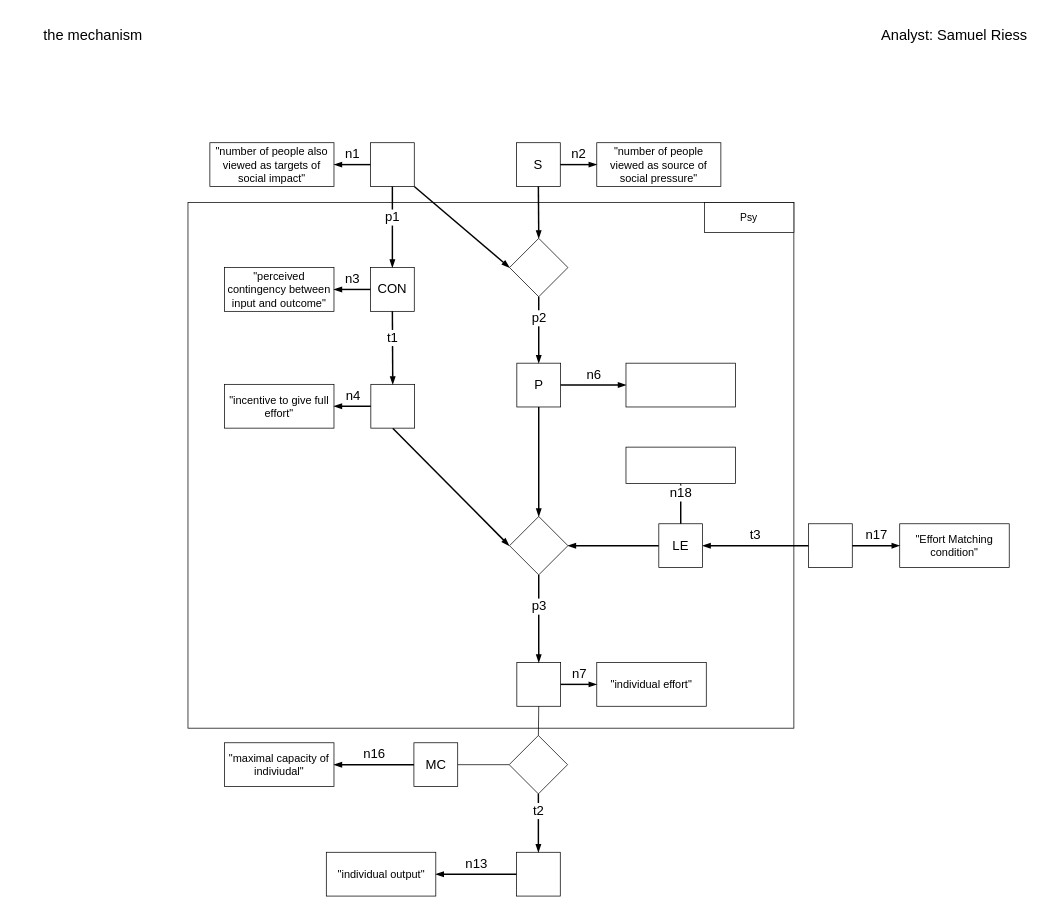
The diagram is 1047 pixels wide and 909 high, and some of its shapes have lost their labels. Each missing label, with the centre of its shape:
"loafing expectation": (x=680, y=465)
"Social pressure on each individual": (x=680, y=384)
CT: (x=392, y=164)
EMC: (x=830, y=545)
IE: (x=538, y=684)
INC: (x=392, y=406)
IO: (x=538, y=874)
